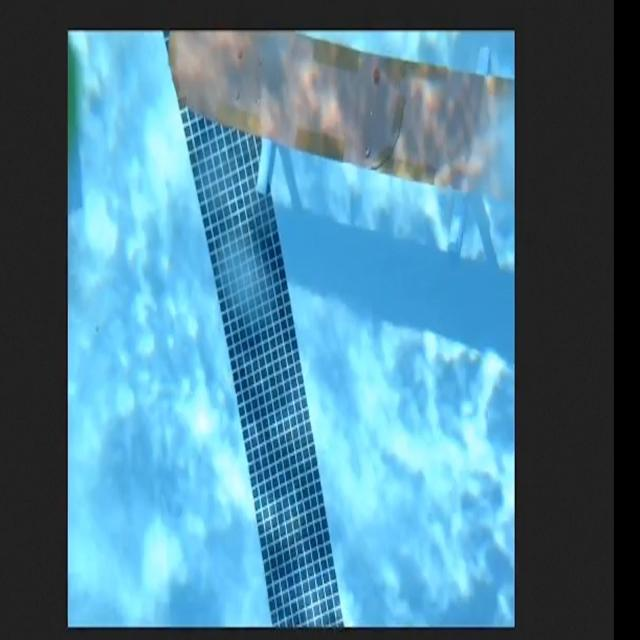Path: (170, 34, 512, 197)
